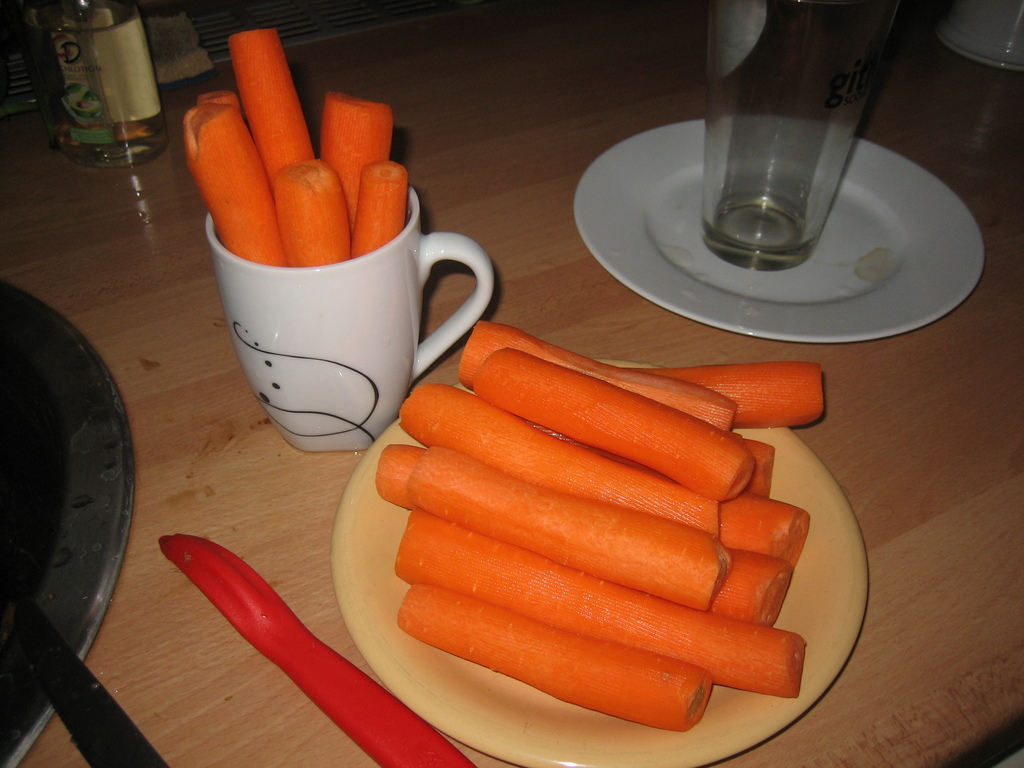Carrot: (374, 320, 826, 734), (181, 25, 410, 268)
